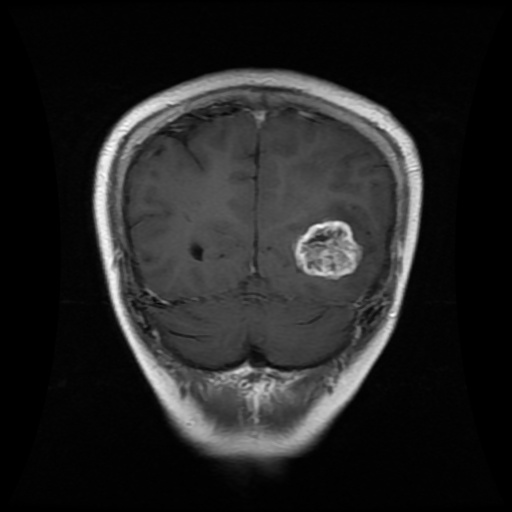glioma: (294, 219, 364, 279)
